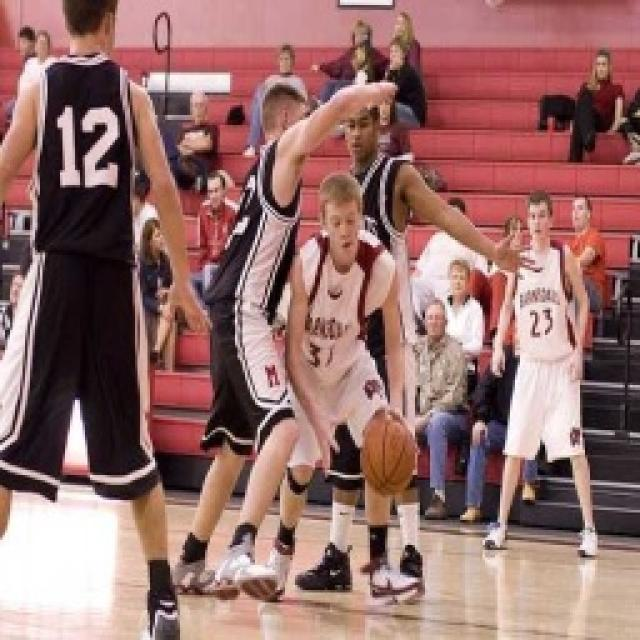rim: (355, 413, 422, 501)
